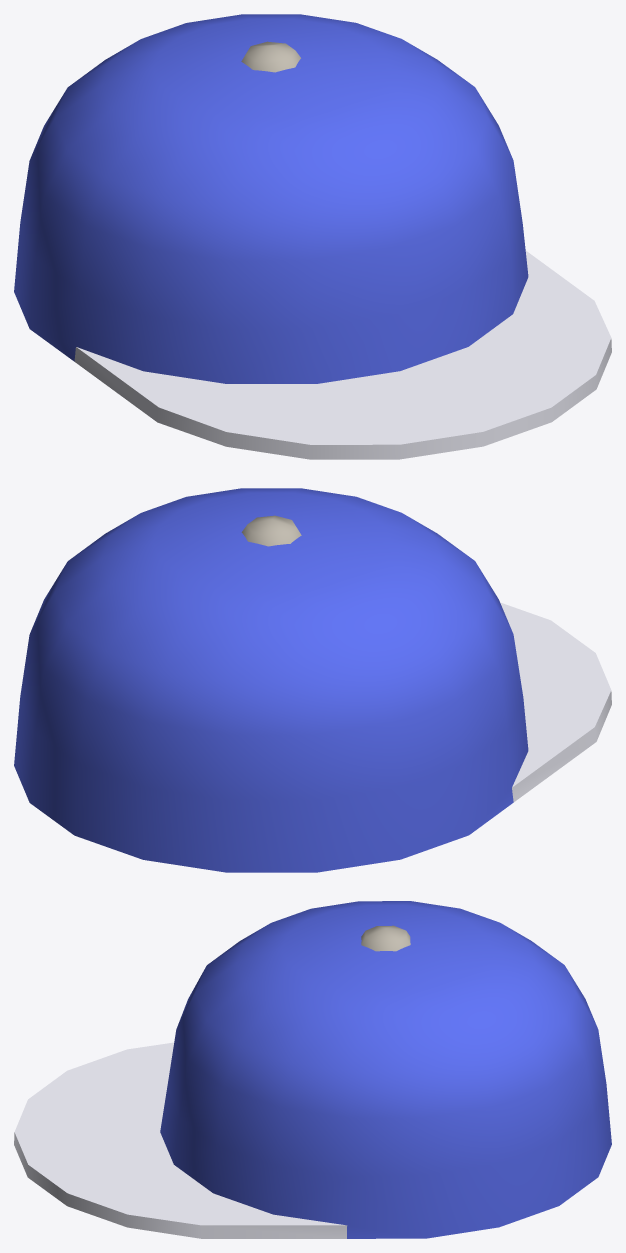
The model's file is Hat_10_03.fbx.
3 renders of one model, top to bottom at view 1: azimuth 30°, elevation 25°; view 2: azimuth 150°, elevation 25°; view 3: azimuth 270°, elevation 25°, orthographic. The views are drawn at different scales.
Visible parts, largest first — view 1: Hat_10_03; view 2: Hat_10_03; view 3: Hat_10_03.
Part boxes in pixels (bbox=[...]): Hat_10_03: bbox=[14, 14, 611, 459]; Hat_10_03: bbox=[14, 488, 611, 872]; Hat_10_03: bbox=[14, 901, 611, 1238].
Bounding box in the file's own units: 35.83 × 19.18 × 48.09.
